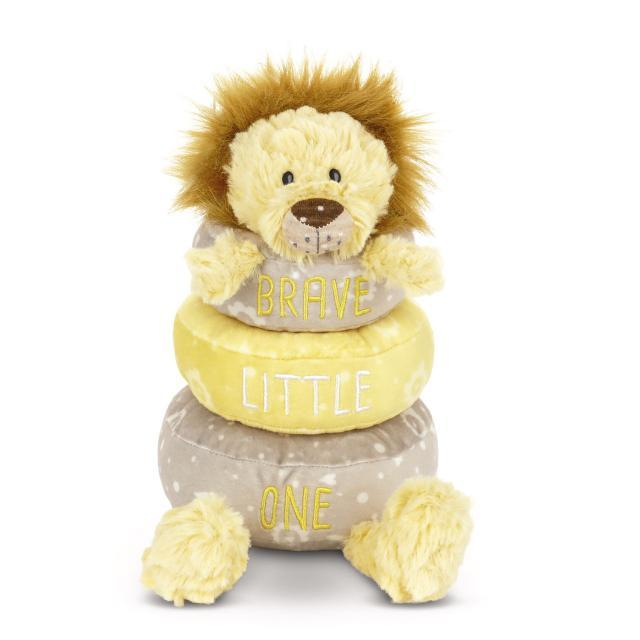soft-toy: (142, 62, 474, 606)
